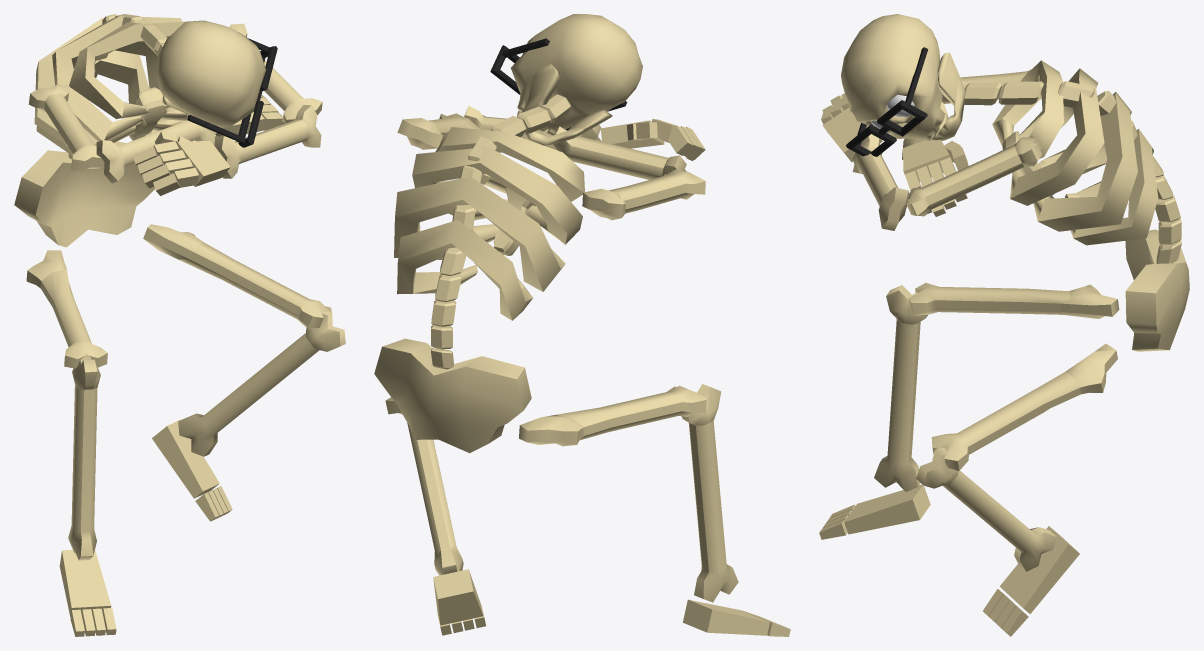
The model's file is skeleton_RECEPTIONIST_frame02.fbx.
The picture shows the model from 3 angles, left to right: view 1: azimuth 30°, elevation 25°; view 2: azimuth 150°, elevation 25°; view 3: azimuth 270°, elevation 25°; orthographic projection. The views are drawn at different scales.
Parts seen in each view (by area): view 1: skeleton_receptionist_frame2; view 2: skeleton_receptionist_frame2; view 3: skeleton_receptionist_frame2.
Boxes of the visible parts, bbox=[...] form: skeleton_receptionist_frame2: bbox=[14, 14, 345, 636]; skeleton_receptionist_frame2: bbox=[374, 14, 790, 636]; skeleton_receptionist_frame2: bbox=[819, 14, 1189, 636].
Size of the model in its own units: 77.02 by 130 by 74.62.
